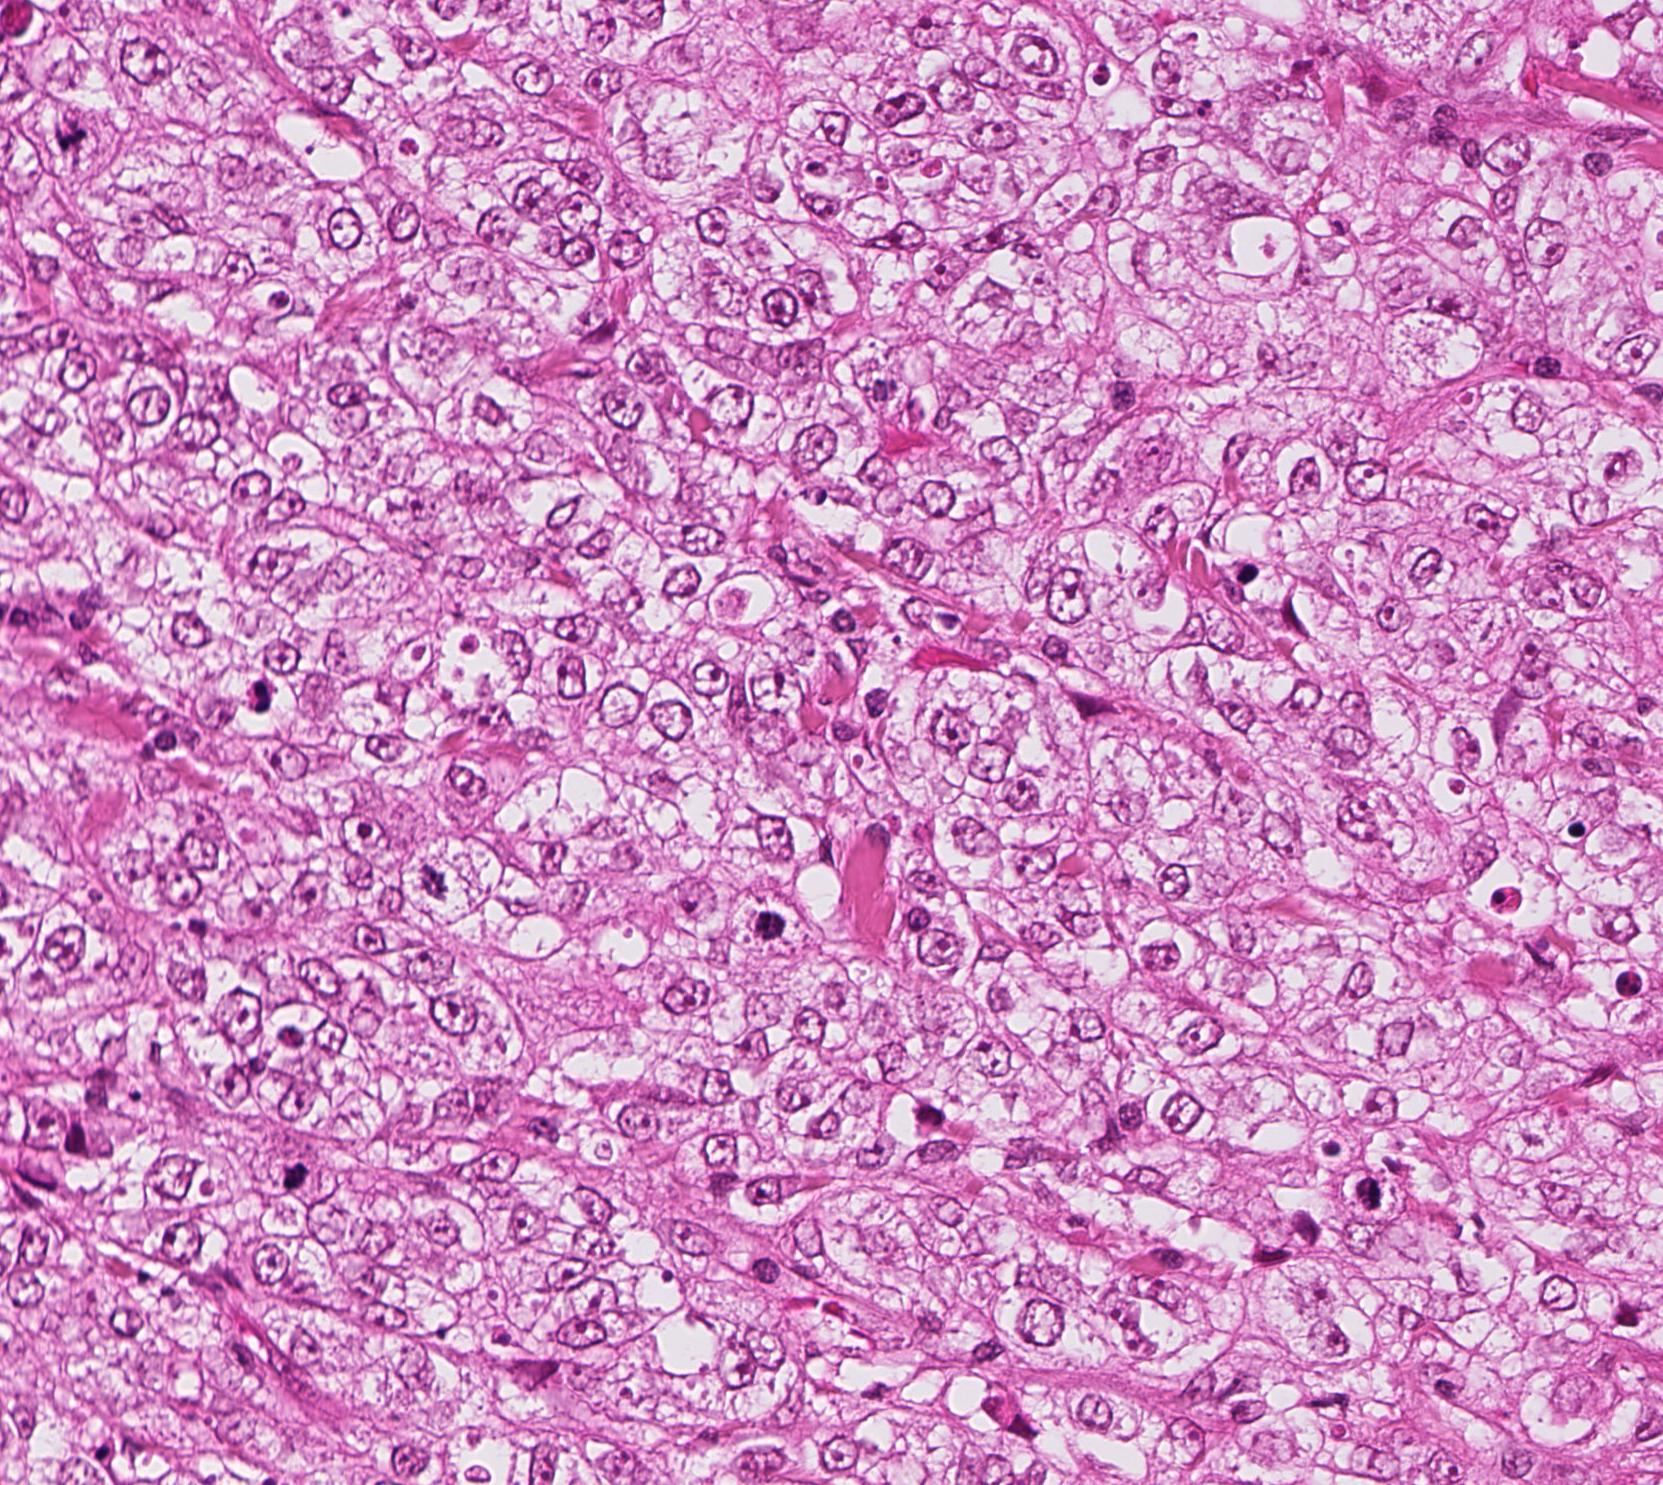mitosis: (404, 843, 464, 903), (259, 1148, 320, 1208), (745, 897, 806, 958)
